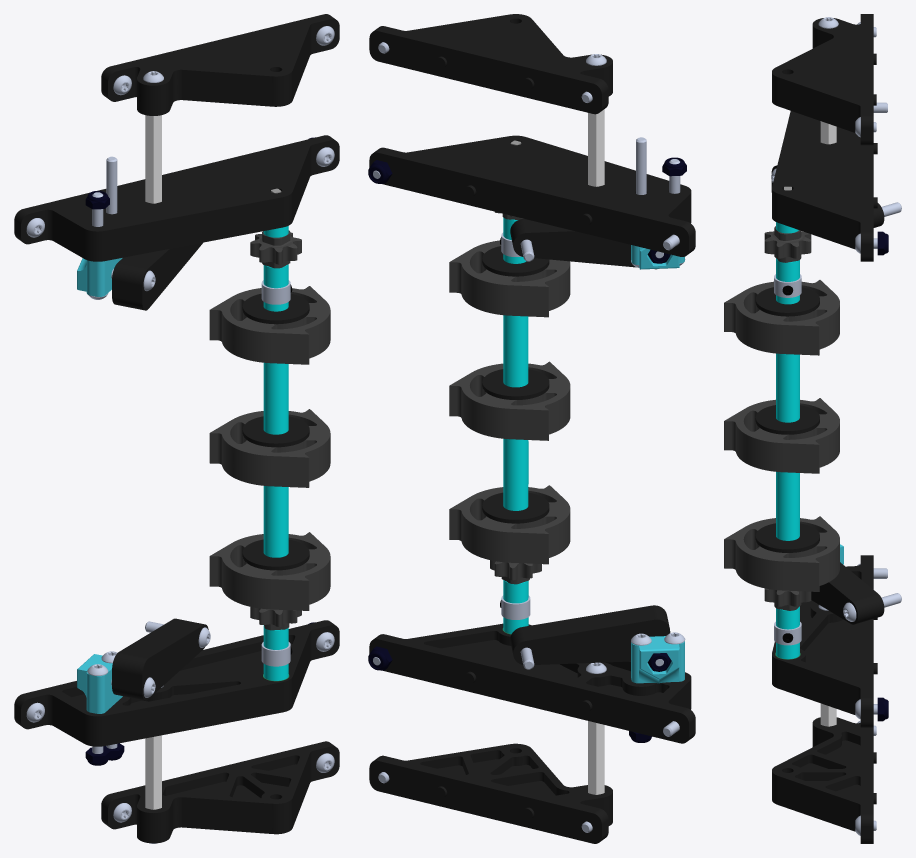
File: Second Roller Subsystem_.fbx
3 views of the same model, side by side, from view 1: azimuth 30°, elevation 25°; view 2: azimuth 150°, elevation 25°; view 3: azimuth 270°, elevation 25° (orthographic). The views are drawn at different scales.
Parts seen in each view (by area): view 1: Body1 (×12), Body2 (×4), Body3 (×5); view 2: Body1 (×11), Body2 (×4), Body3 (×5); view 3: Body1 (×11), Body2 (×2), Body3 (×7).
Boxes of the visible parts, x1,y1,x2,y2 form: Body1 (×12): (14,14,339,713); Body2 (×4): (14,115,339,843); Body3 (×5): (242,293,309,570); Body1 (×11): (369,14,695,683); Body2 (×4): (369,109,695,843); Body3 (×5): (482,246,549,523); Body1 (×11): (724,14,901,645); Body2 (×2): (772,555,877,843); Body3 (×7): (755,258,819,629).
Bounding box in the file's own units: 5.5 × 12.67 × 2.77.
